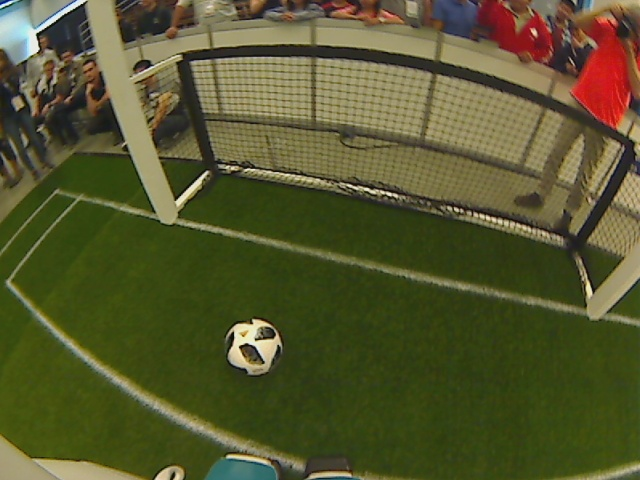ball: (223, 314, 285, 375)
